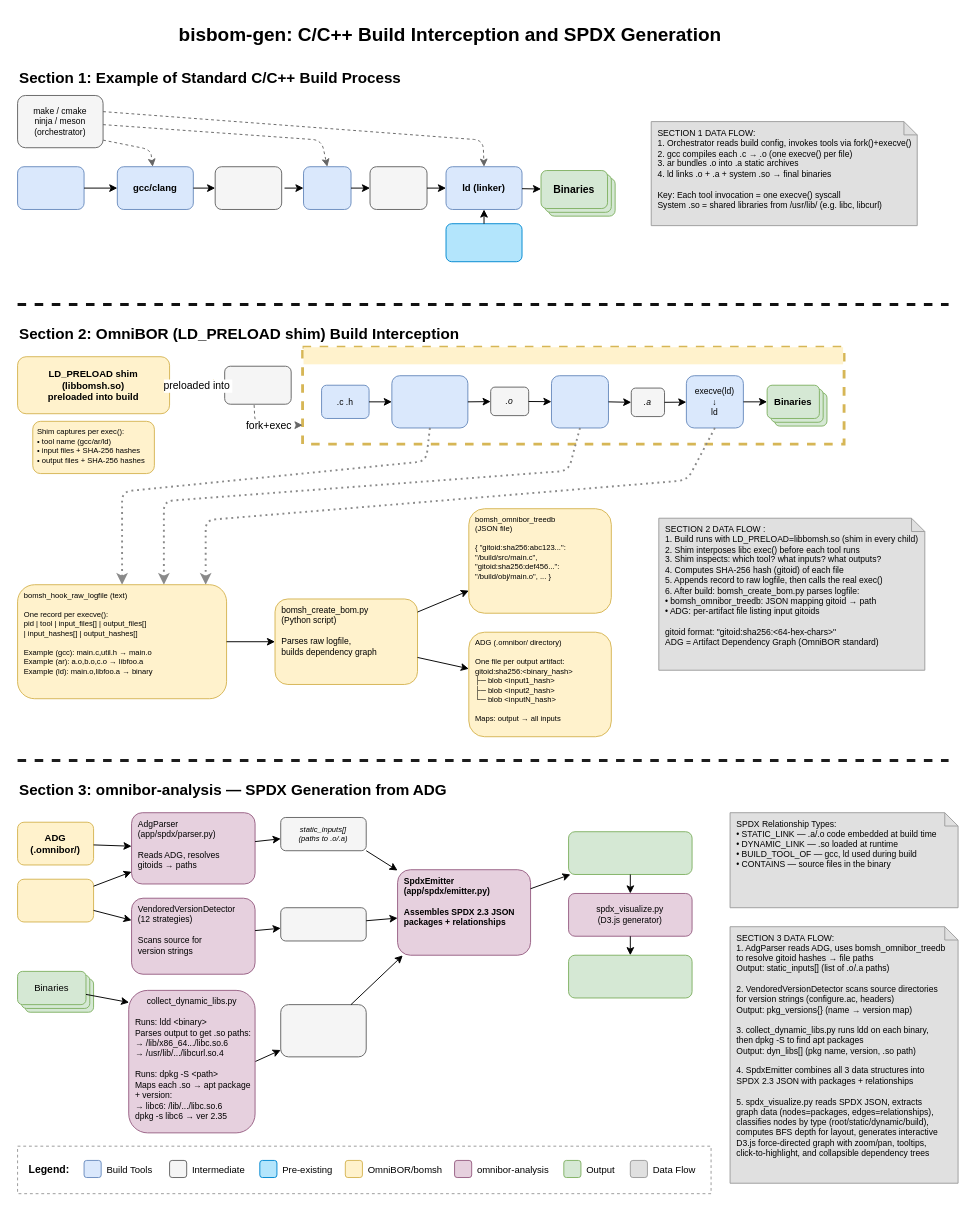
Some shapes in this 975 by 1210 pixel diagram are drawn without their labels. The box of each missing label's shape, as (x1, y1, x2, y2) in pixels:
.a libs: (369, 166, 427, 209)
.o files: (214, 166, 282, 209)
ar: (303, 166, 351, 209)
bomsh_omnibor _treedb: (17, 878, 94, 922)
dyn_libs[] [{pkg: libc6, ver: 2.35, so: libc.so.6}, ...]: (280, 1004, 366, 1057)
execve(ar) ↓ ar: (551, 375, 608, 428)
execve(gcc) ↓ gcc/clang: (391, 375, 468, 428)
Interactive HTML (*.spdx.html): (568, 954, 692, 998)
LD_PRELOAD shim interposes each execve()/posix_spawn() libc call: (303, 347, 843, 364)
make (child): (224, 365, 291, 404)
pkg_versions{} (name → ver): (280, 907, 366, 941)
Source (.c .h): (17, 166, 84, 209)
SPDX 2.3 JSON (*_build.spdx.json): (568, 831, 692, 874)
System .so (/usr/lib/): (445, 223, 522, 262)
